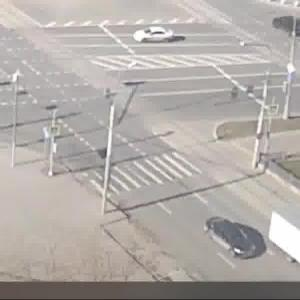car: (204, 215, 259, 263), (130, 26, 184, 44)
